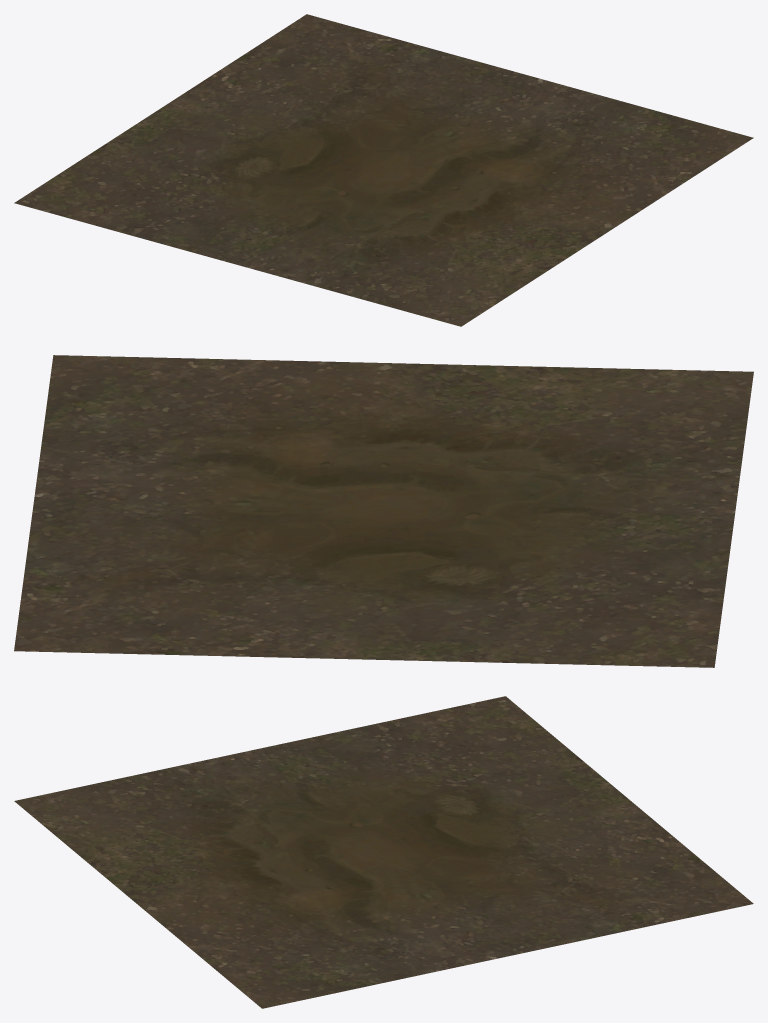
Rendered from dirt_blends02.fbx.
The picture shows the model from 3 angles, top to bottom: view 1: azimuth 30°, elevation 25°; view 2: azimuth 150°, elevation 25°; view 3: azimuth 270°, elevation 25°; orthographic projection. The views are drawn at different scales.
Visible parts, largest first — view 1: obj0.051; view 2: obj0.051; view 3: obj0.051.
Part boxes in pixels (<box>): obj0.051: <box>14,14,753,326</box>; obj0.051: <box>14,355,753,667</box>; obj0.051: <box>14,696,753,1008</box>.
Bounding box in the file's own units: 9.56 × 1.35e-06 × 9.56.
